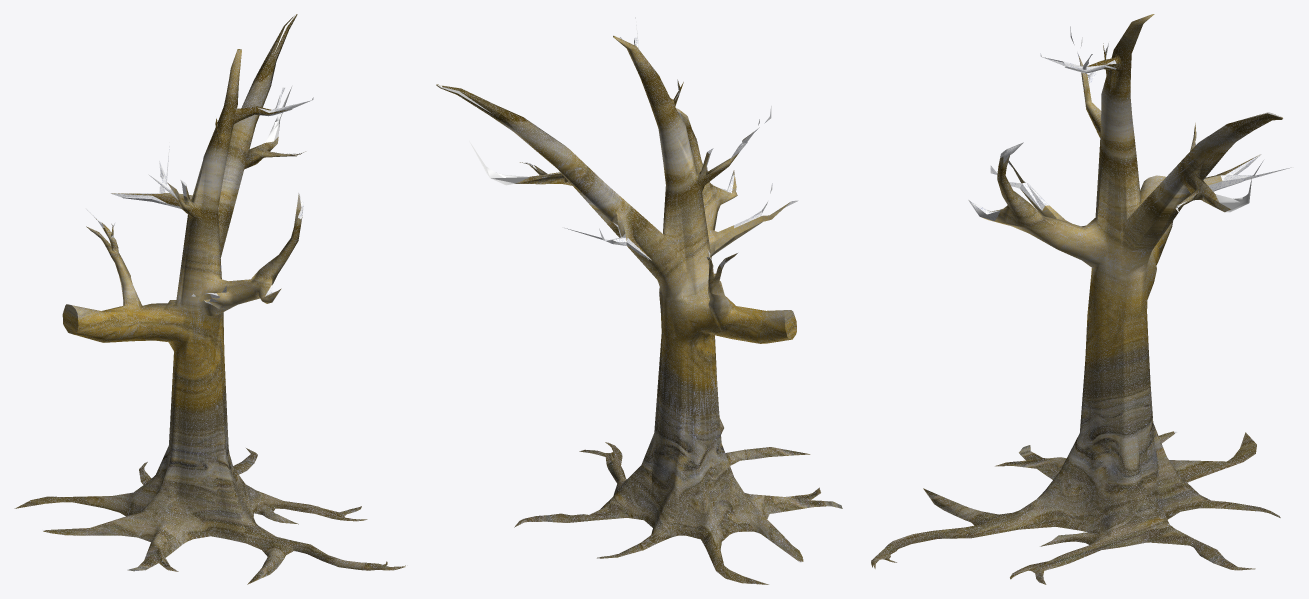
3 views of the same model, side by side, from view 1: azimuth 30°, elevation 25°; view 2: azimuth 150°, elevation 25°; view 3: azimuth 270°, elevation 25° (orthographic). The views are drawn at different scales.
Visible parts, largest first — view 1: JTree (×2); view 2: JTree; view 3: JTree (×2).
Boxes of the visible parts, x1=… form: JTree (×2): x1=14, y1=14, x2=405, y2=584; JTree: x1=436, y1=35, x2=842, y2=584; JTree (×2): x1=871, y1=14, x2=1291, y2=584.
Size of the model in its own units: 181 by 186 by 254.
4 materials, 1 textured.
